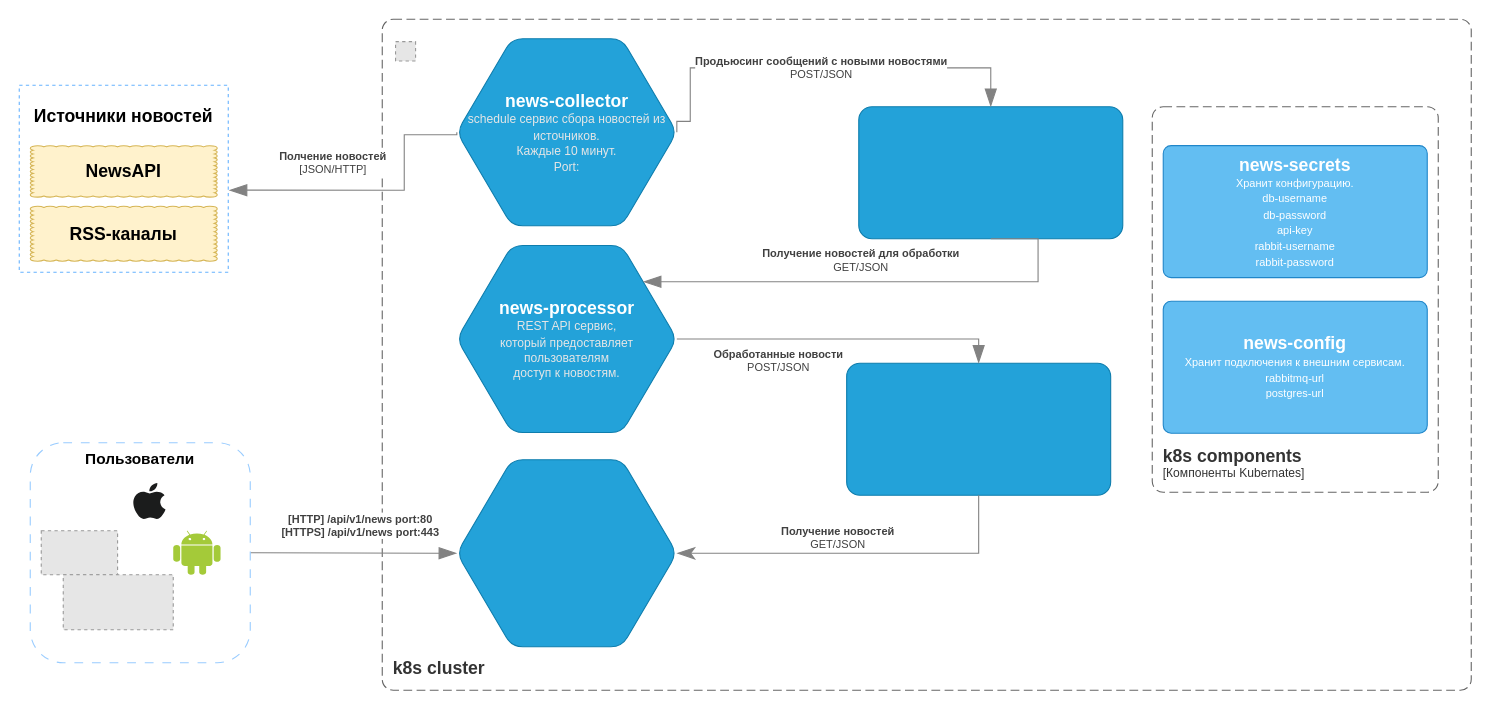
Image size: 1491x710. Some labels were removed from this diagram. Grey dashed boxes stand in for pictures. The shapes that lost their labels are listed below. From the top down, each one's centre as x and y in pixels, then its label:
At pixel 990 172: "rabbitmq-server [Container: Message broker ] Port: 5672".
At pixel 978 428: "postgres-server [Container: PostreSQL] Port: 5432 Db name: newsdb".
At pixel 566 553: "news-api > Host: news-agregator.misis.com Port: 8080".
